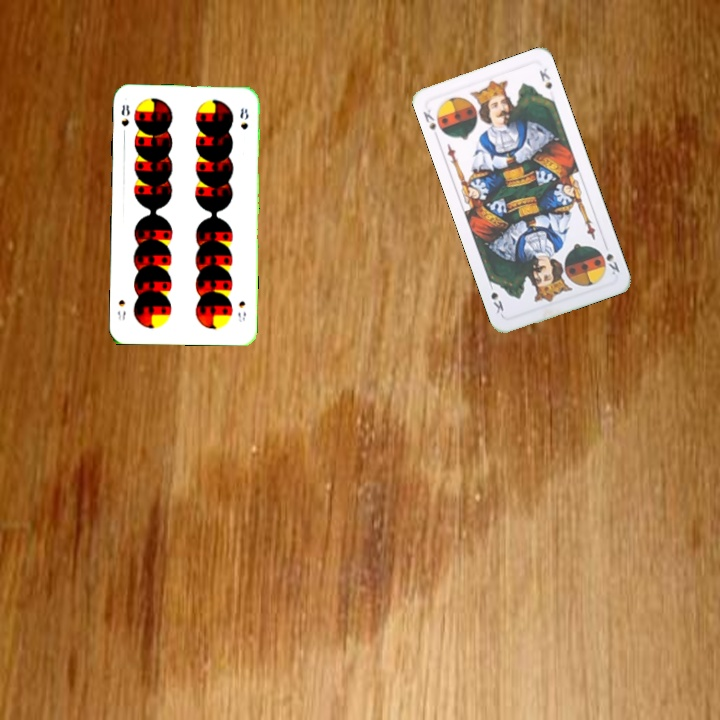S8: (117, 101, 132, 129), (234, 297, 248, 324)
SK: (602, 249, 622, 277), (419, 105, 439, 133)
